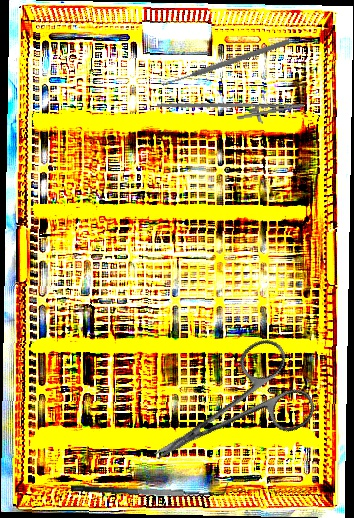Iris Scissors: (130, 332, 321, 496)
Needle Holder: (156, 85, 306, 137)
Pusher: (161, 37, 291, 89)
Spatula Surgical: (70, 471, 229, 504)
